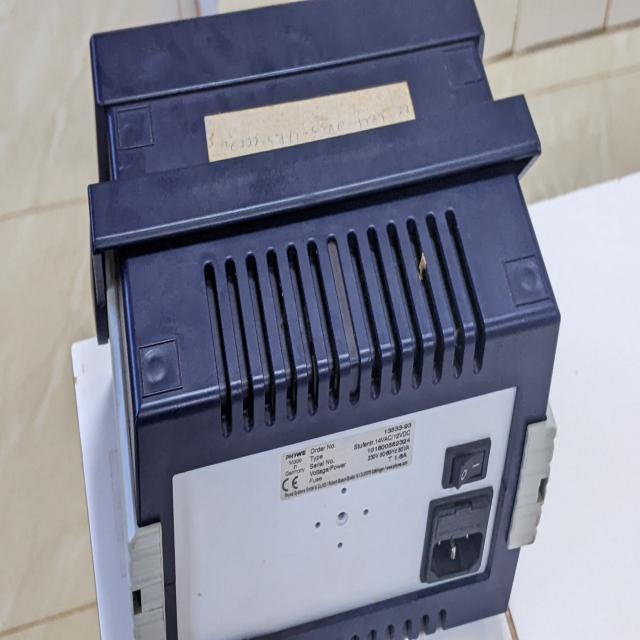Power Supply Stufentrafo_75VA: (72, 1, 580, 640)
